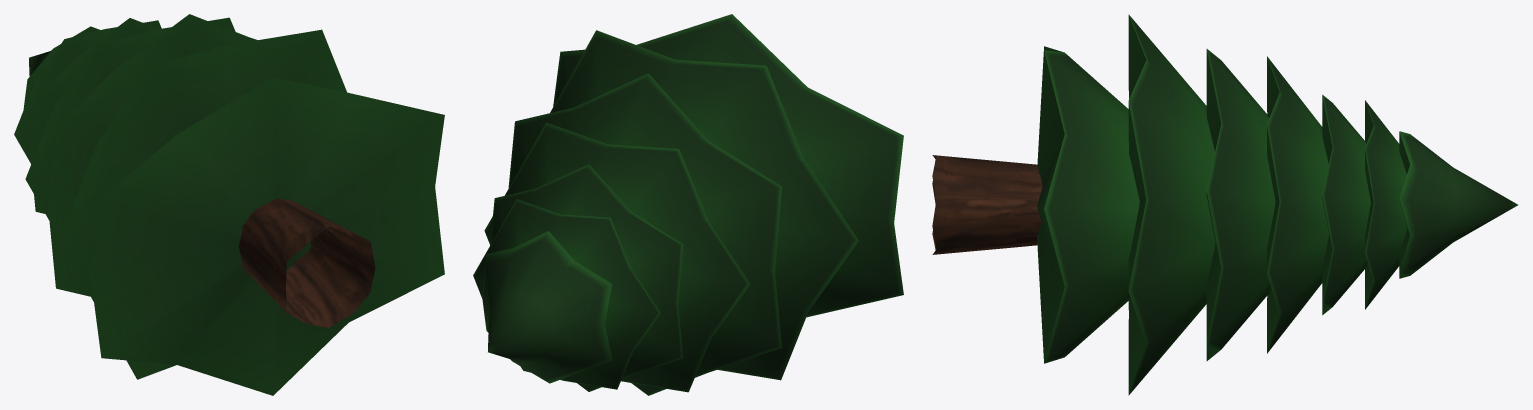
The model's file is greenPinePine.fbx.
3 views of the same model, side by side, from view 1: azimuth 30°, elevation 25°; view 2: azimuth 150°, elevation 25°; view 3: azimuth 270°, elevation 25° (orthographic). The views are drawn at different scales.
Visible parts, largest first — view 1: Cylinder.002; view 2: Cylinder.002; view 3: Cylinder.002.
Part boxes in pixels (<box>): Cylinder.002: <box>14,14,444,395</box>; Cylinder.002: <box>473,14,903,395</box>; Cylinder.002: <box>932,14,1517,395</box>.
Bounding box in the file's own units: 712 × 636 × 1078.
